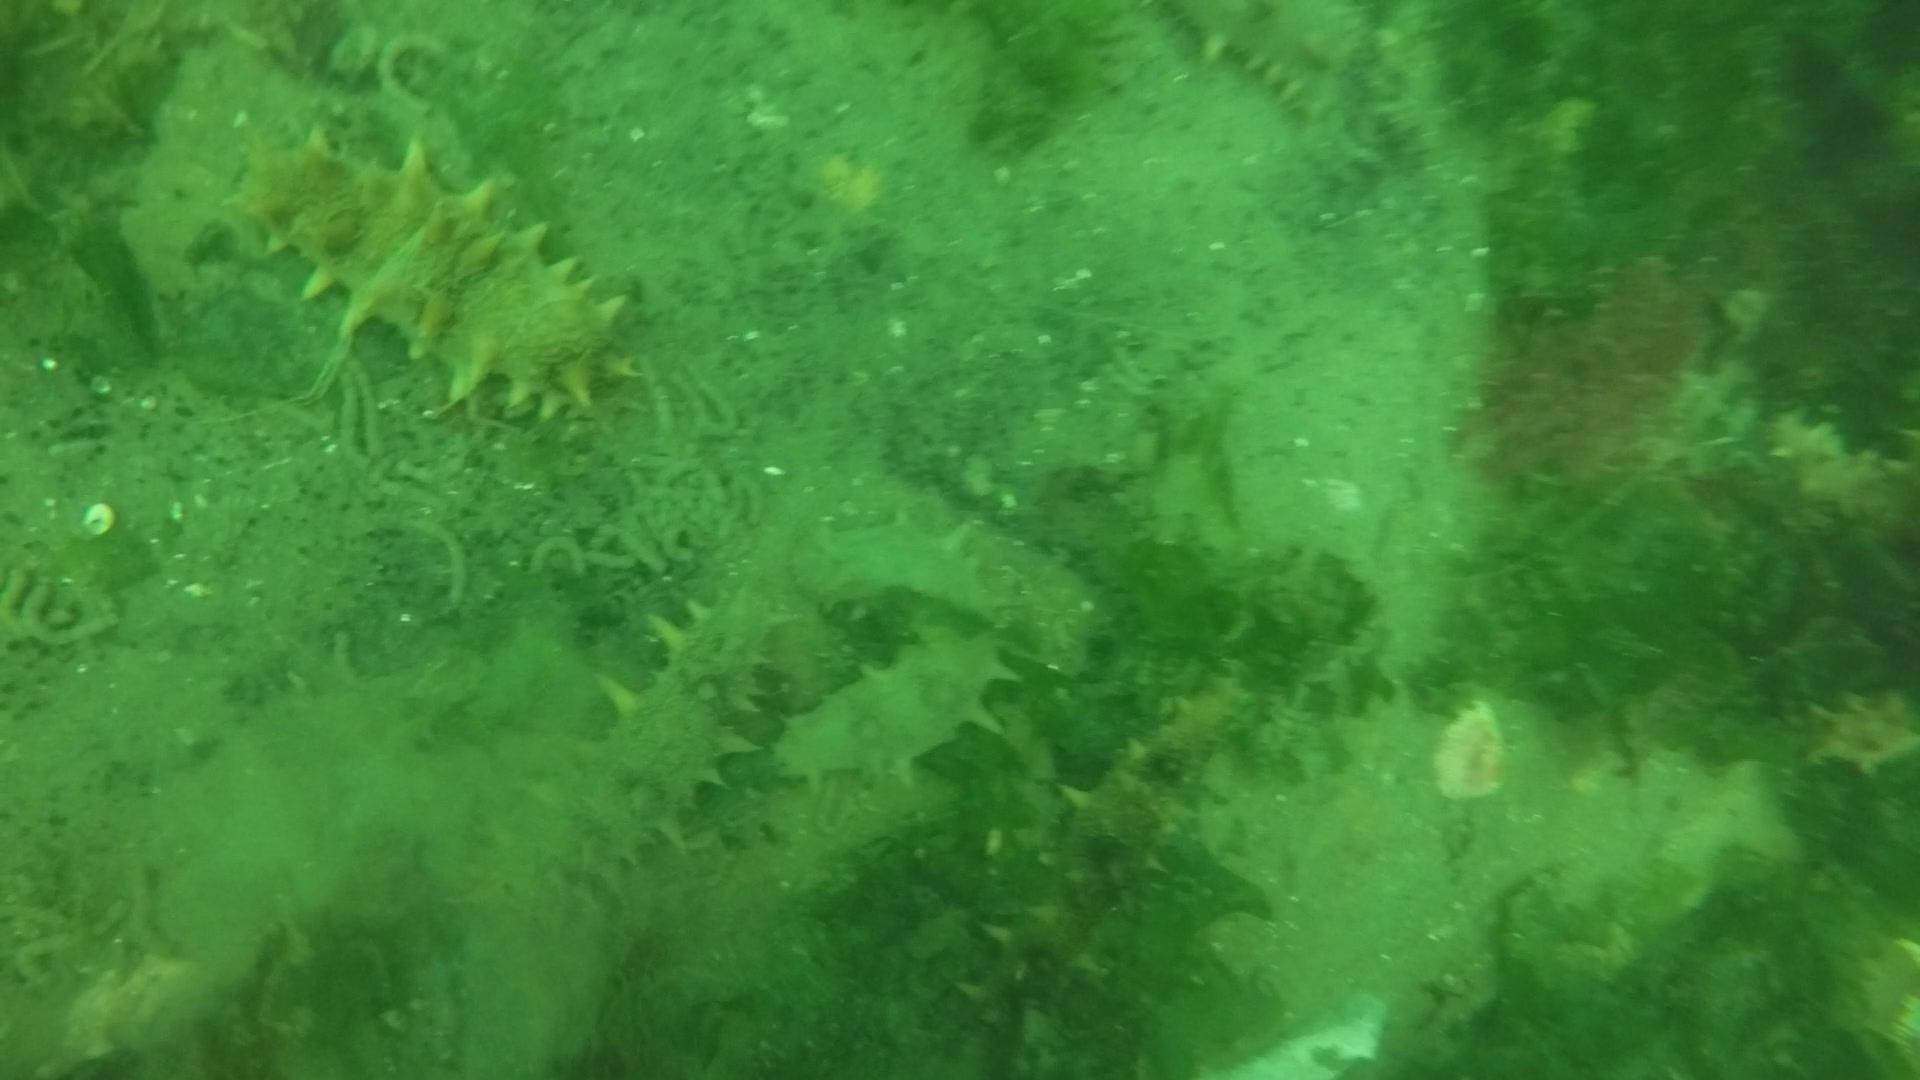holothurian: (225, 124, 644, 429), (953, 679, 1253, 1062), (456, 582, 793, 916), (764, 616, 1027, 791), (1158, 1, 1386, 179), (796, 506, 1011, 642), (1758, 401, 1913, 534), (1793, 678, 1920, 783)
